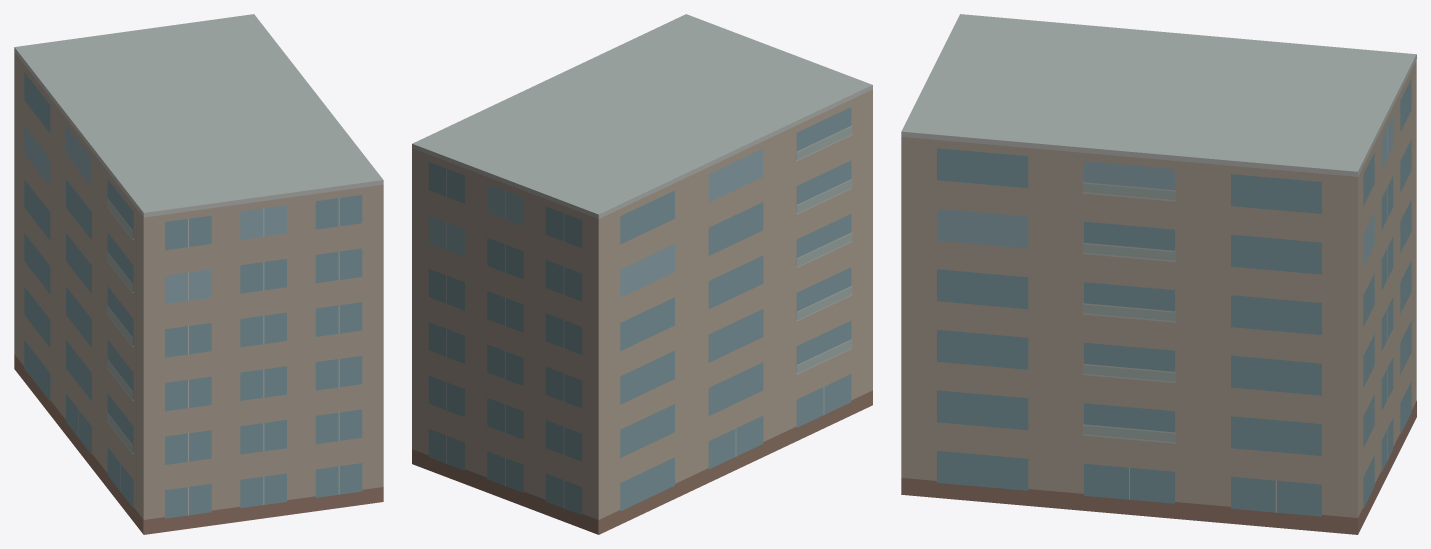
The model's file is survey-upis-33022599.glb.
The picture shows the model from 3 angles, left to right: view 1: azimuth 30°, elevation 25°; view 2: azimuth 150°, elevation 25°; view 3: azimuth 270°, elevation 25°; orthographic projection. The views are drawn at different scales.
Visible parts, largest first — view 1: survey-upis-33022599.tmp; view 2: survey-upis-33022599.tmp; view 3: survey-upis-33022599.tmp.
Part boxes in pixels (left/top/right/bottom): survey-upis-33022599.tmp: left=14, top=14, right=383, bottom=534; survey-upis-33022599.tmp: left=412, top=14, right=872, bottom=534; survey-upis-33022599.tmp: left=901, top=14, right=1416, bottom=534.
Bounding box in the file's own units: 16.04 × 17.2 × 22.14.
